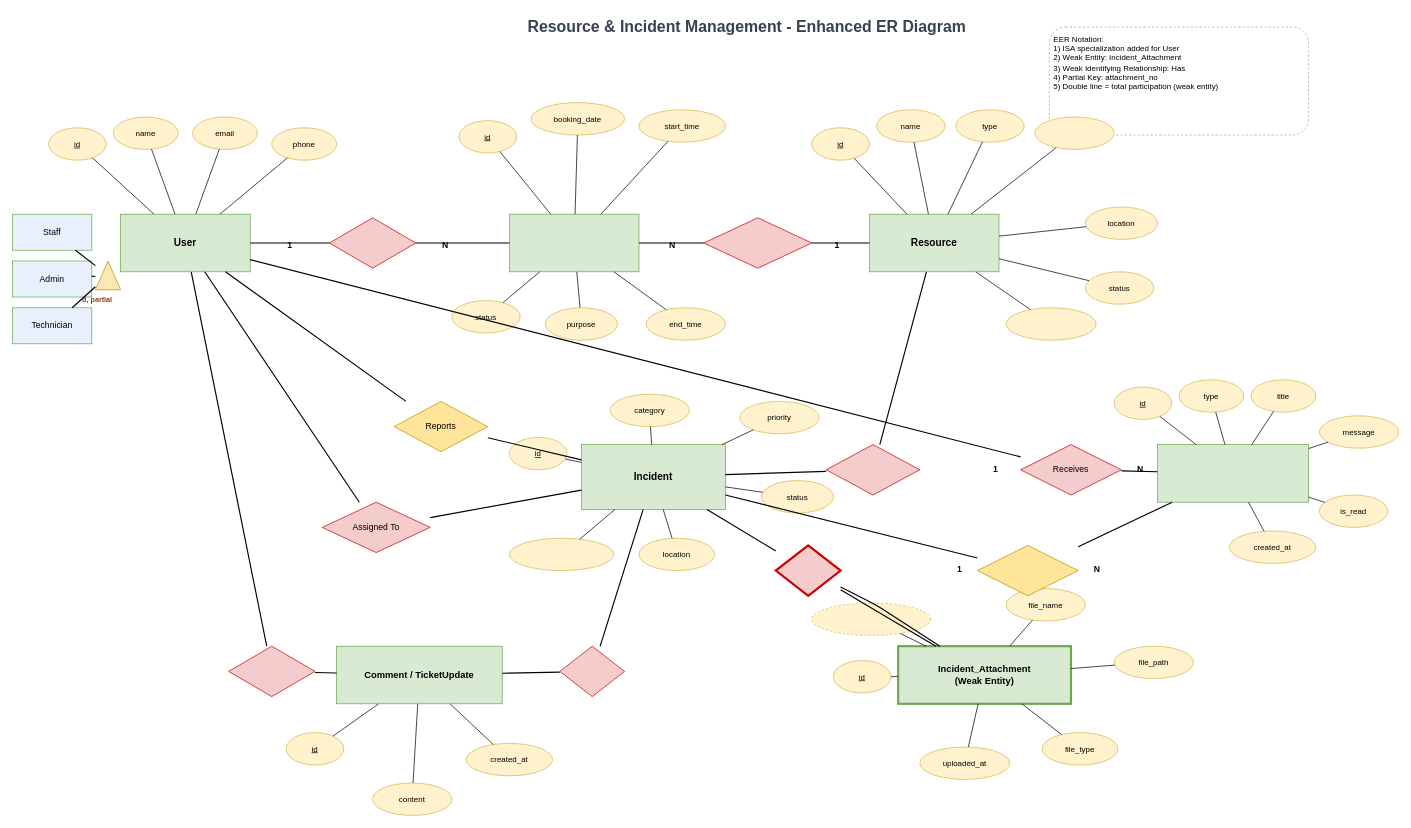
Image size: 1411x828. Some labels were removed from this diagram. Each missing label, with the box of its shape:
assigned_team: (509, 537, 614, 571)
attachment_no (partial key): (811, 602, 931, 635)
availability: (1005, 307, 1096, 340)
Booking: (509, 213, 639, 272)
capacity: (1034, 116, 1114, 149)
Generates: (977, 545, 1078, 596)
Has: (559, 645, 625, 697)
Has (Weak Identifying): (774, 544, 841, 597)
Involves: (825, 444, 920, 495)
ISA: (95, 260, 121, 290)
Makes: (329, 217, 416, 268)
Notification: (1157, 444, 1309, 502)
Reserved For: (703, 217, 812, 268)
Writes: (228, 645, 315, 697)
